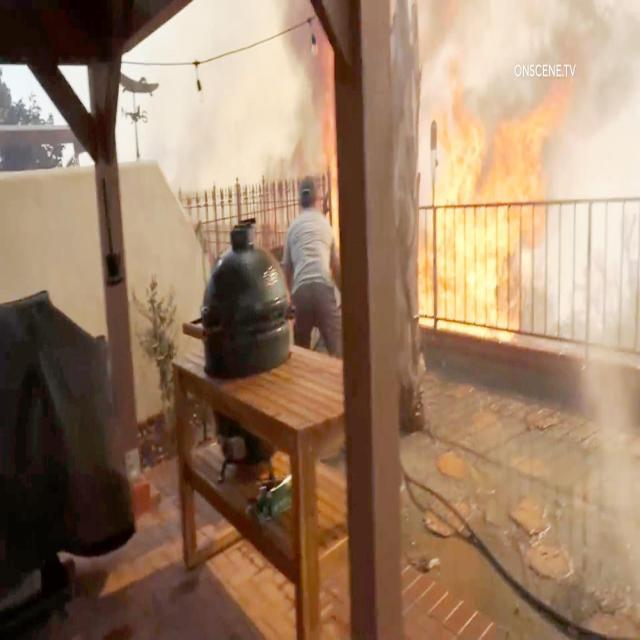Fire: (440, 82, 570, 331)
Smoke: (560, 11, 634, 58)
